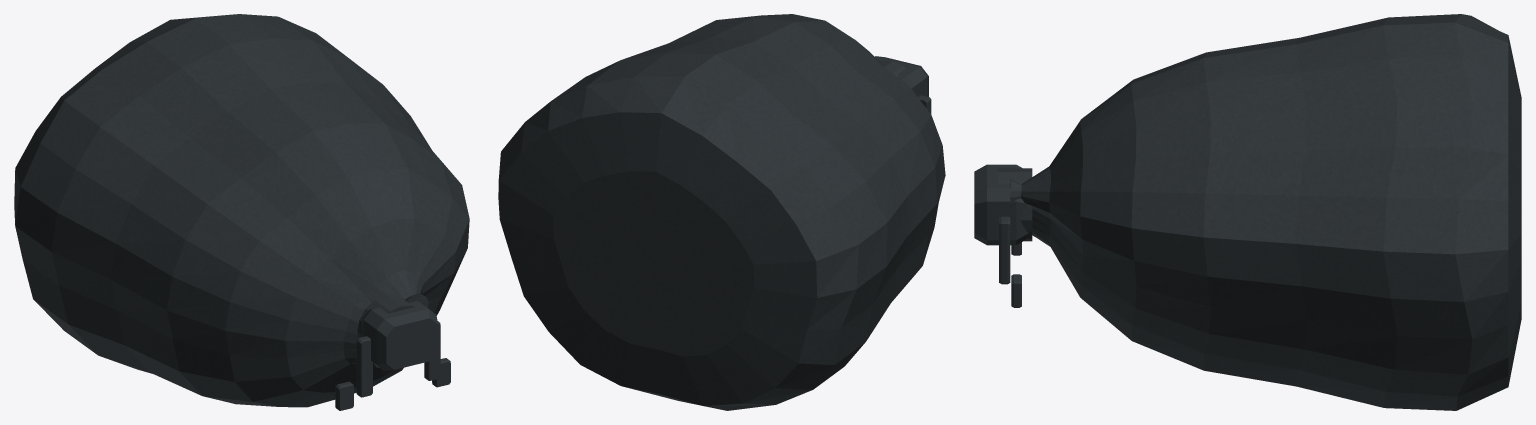
File: PZ_DST_02_Trash_Bag_Black_110L.glb
3 views of the same model, side by side, from view 1: azimuth 30°, elevation 25°; view 2: azimuth 150°, elevation 25°; view 3: azimuth 270°, elevation 25° (orthographic). The views are drawn at different scales.
Visible parts, largest first — view 1: BAG_01_SealedOrganicLobedBody, BAG_03_TiedKnot_CrumpledPolymer, BAG_04_TwistTies_FreeLoopEnds, BAG_02_NeckTighteningBand; view 2: BAG_01_SealedOrganicLobedBody, BAG_03_TiedKnot_CrumpledPolymer; view 3: BAG_01_SealedOrganicLobedBody, BAG_03_TiedKnot_CrumpledPolymer, BAG_04_TwistTies_FreeLoopEnds, BAG_02_NeckTighteningBand.
Boxes of the visible parts, left/top/right/bottom form: BAG_01_SealedOrganicLobedBody: left=14, top=14, right=469, bottom=407; BAG_03_TiedKnot_CrumpledPolymer: left=362, top=301, right=437, bottom=370; BAG_04_TwistTies_FreeLoopEnds: left=335, top=321, right=450, bottom=410; BAG_02_NeckTighteningBand: left=357, top=294, right=414, bottom=337; BAG_01_SealedOrganicLobedBody: left=498, top=14, right=945, bottom=410; BAG_03_TiedKnot_CrumpledPolymer: left=875, top=56, right=928, bottom=96; BAG_01_SealedOrganicLobedBody: left=1010, top=14, right=1521, bottom=410; BAG_03_TiedKnot_CrumpledPolymer: left=974, top=164, right=1028, bottom=245; BAG_04_TwistTies_FreeLoopEnds: left=999, top=216, right=1021, bottom=307; BAG_02_NeckTighteningBand: left=998, top=168, right=1032, bottom=241.
Bounding box in the file's own units: 0.6929 × 0.5881 × 0.8255.
Materials: 1 (1 with a texture image).
